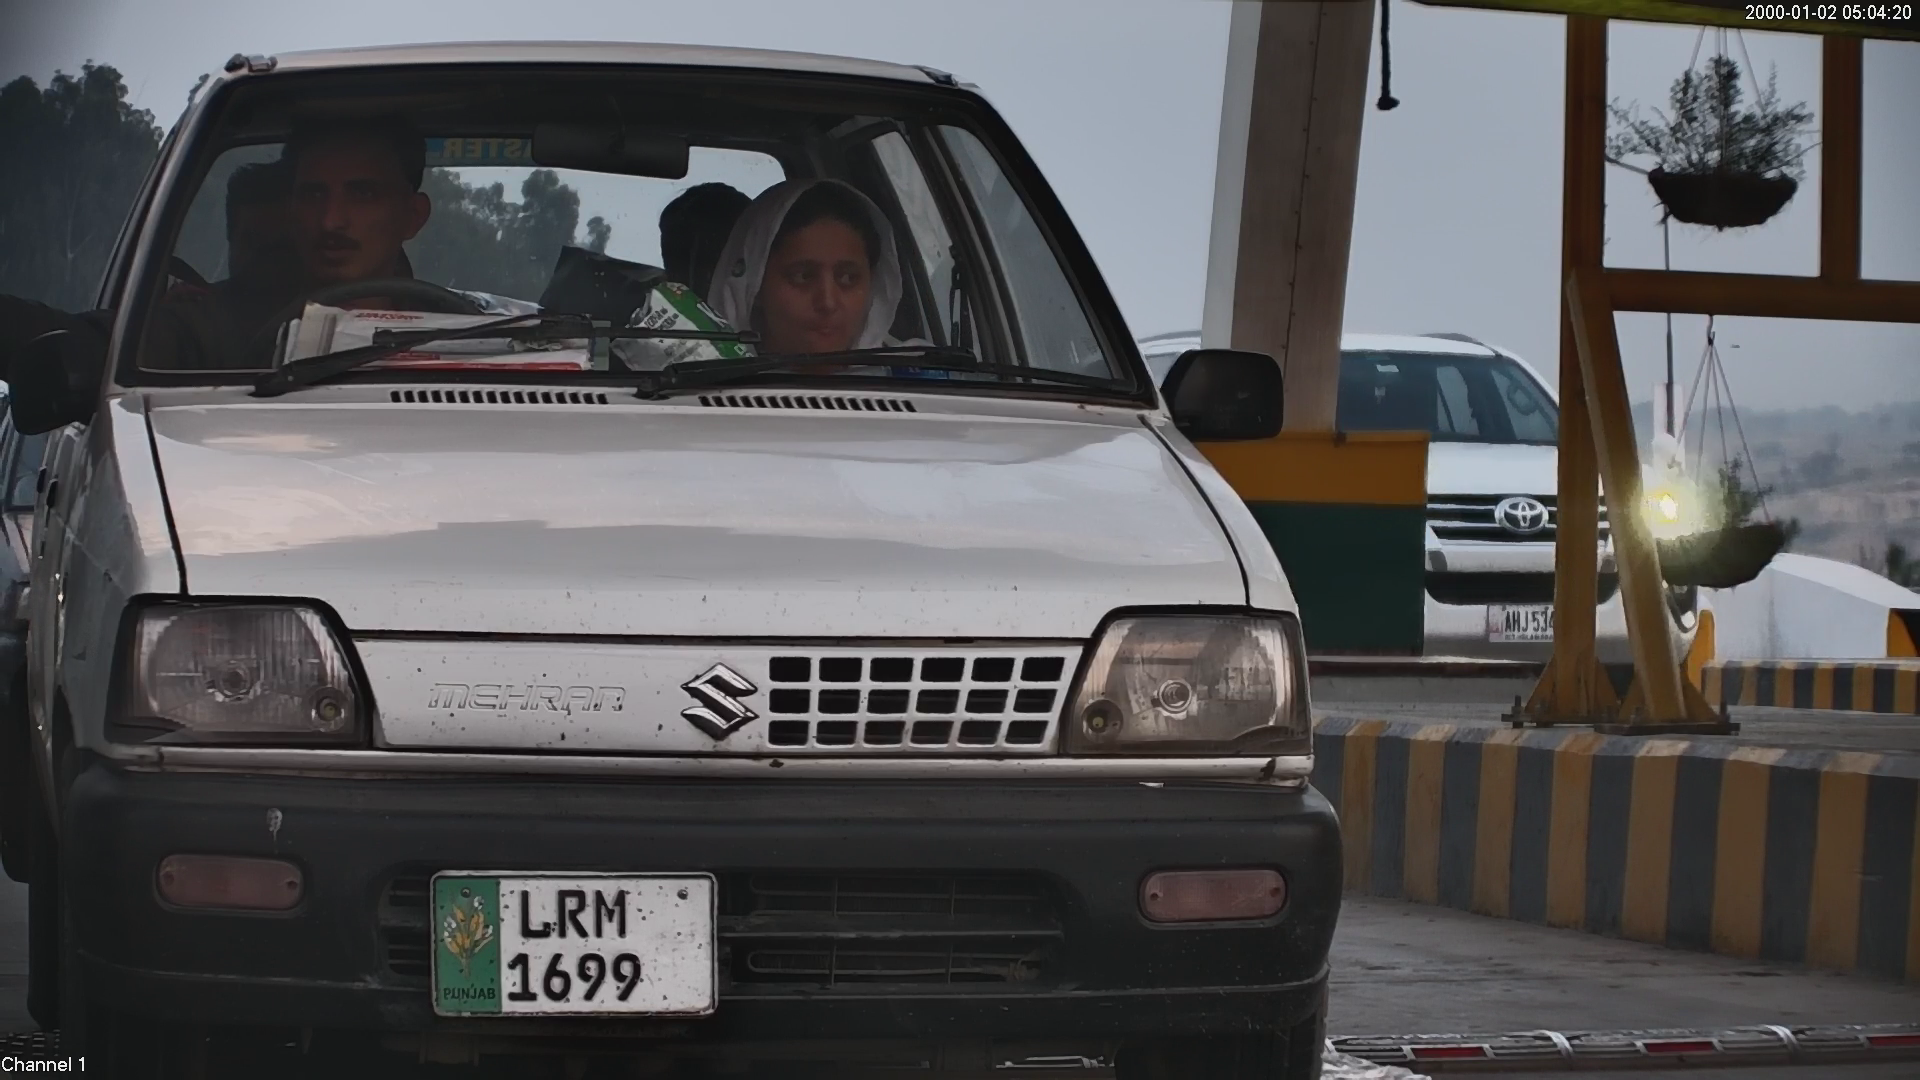Number_Plate: (415, 853, 731, 1035)
